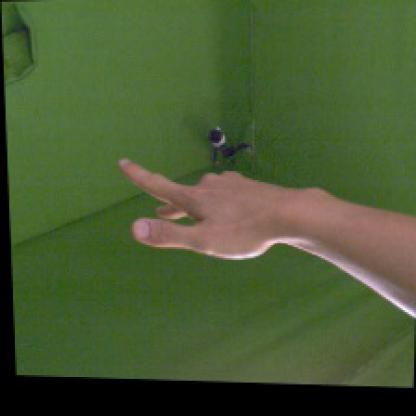Hand: (118, 157, 326, 260)
